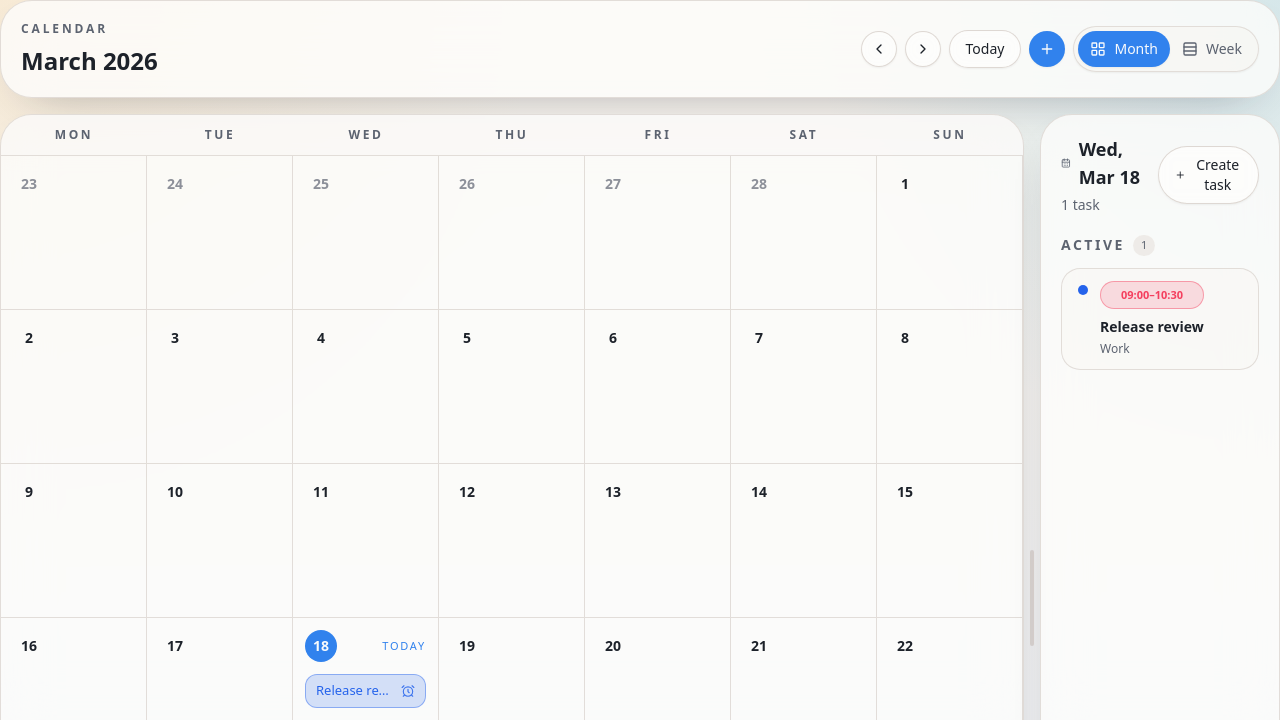
Test: CalendarPageView › shows task time badges in the selected day panel and week view
Expected: the text "09:00–10:30" is shown, [1100,281,1204,309]
Click the button "Week" at (1212, 49), box [1170,31,1254,67]
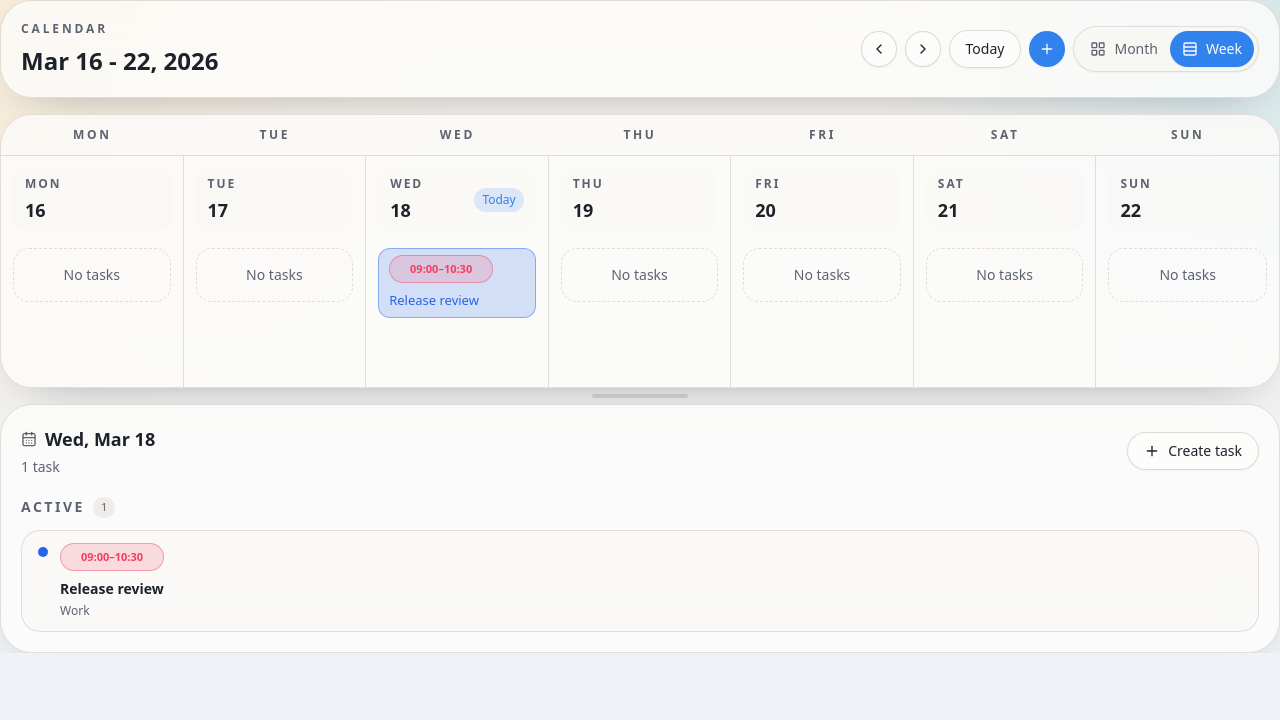
Result: the 1st text "09:00–10:30" is shown at [389,255,493,283]
